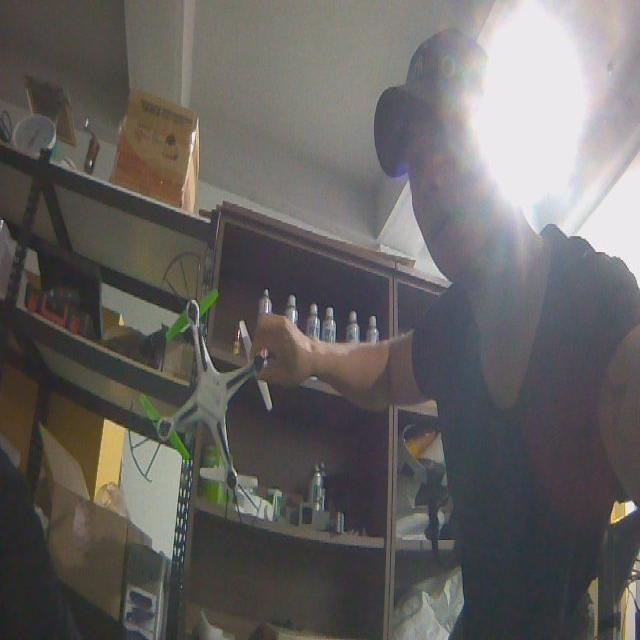drone: (127, 247, 281, 539)
